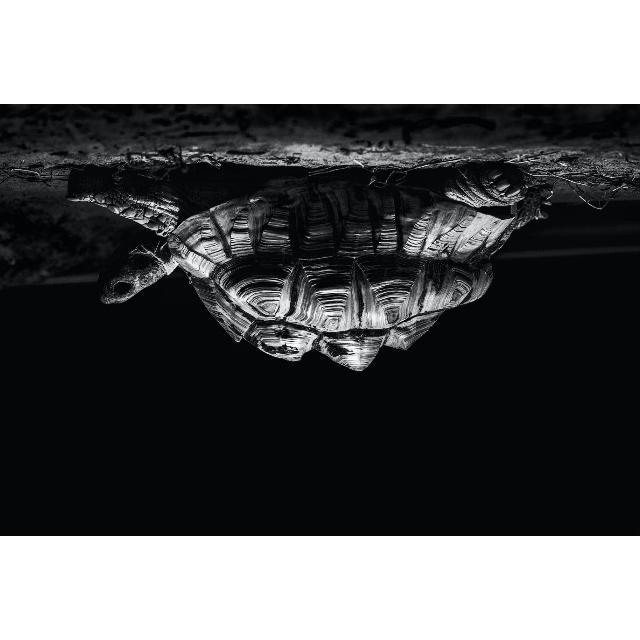turtle: (66, 159, 553, 373)
